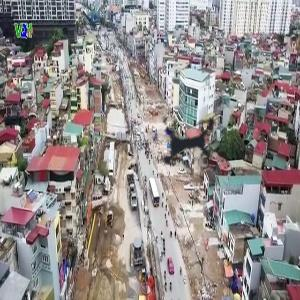drone: (120, 69, 261, 210)
